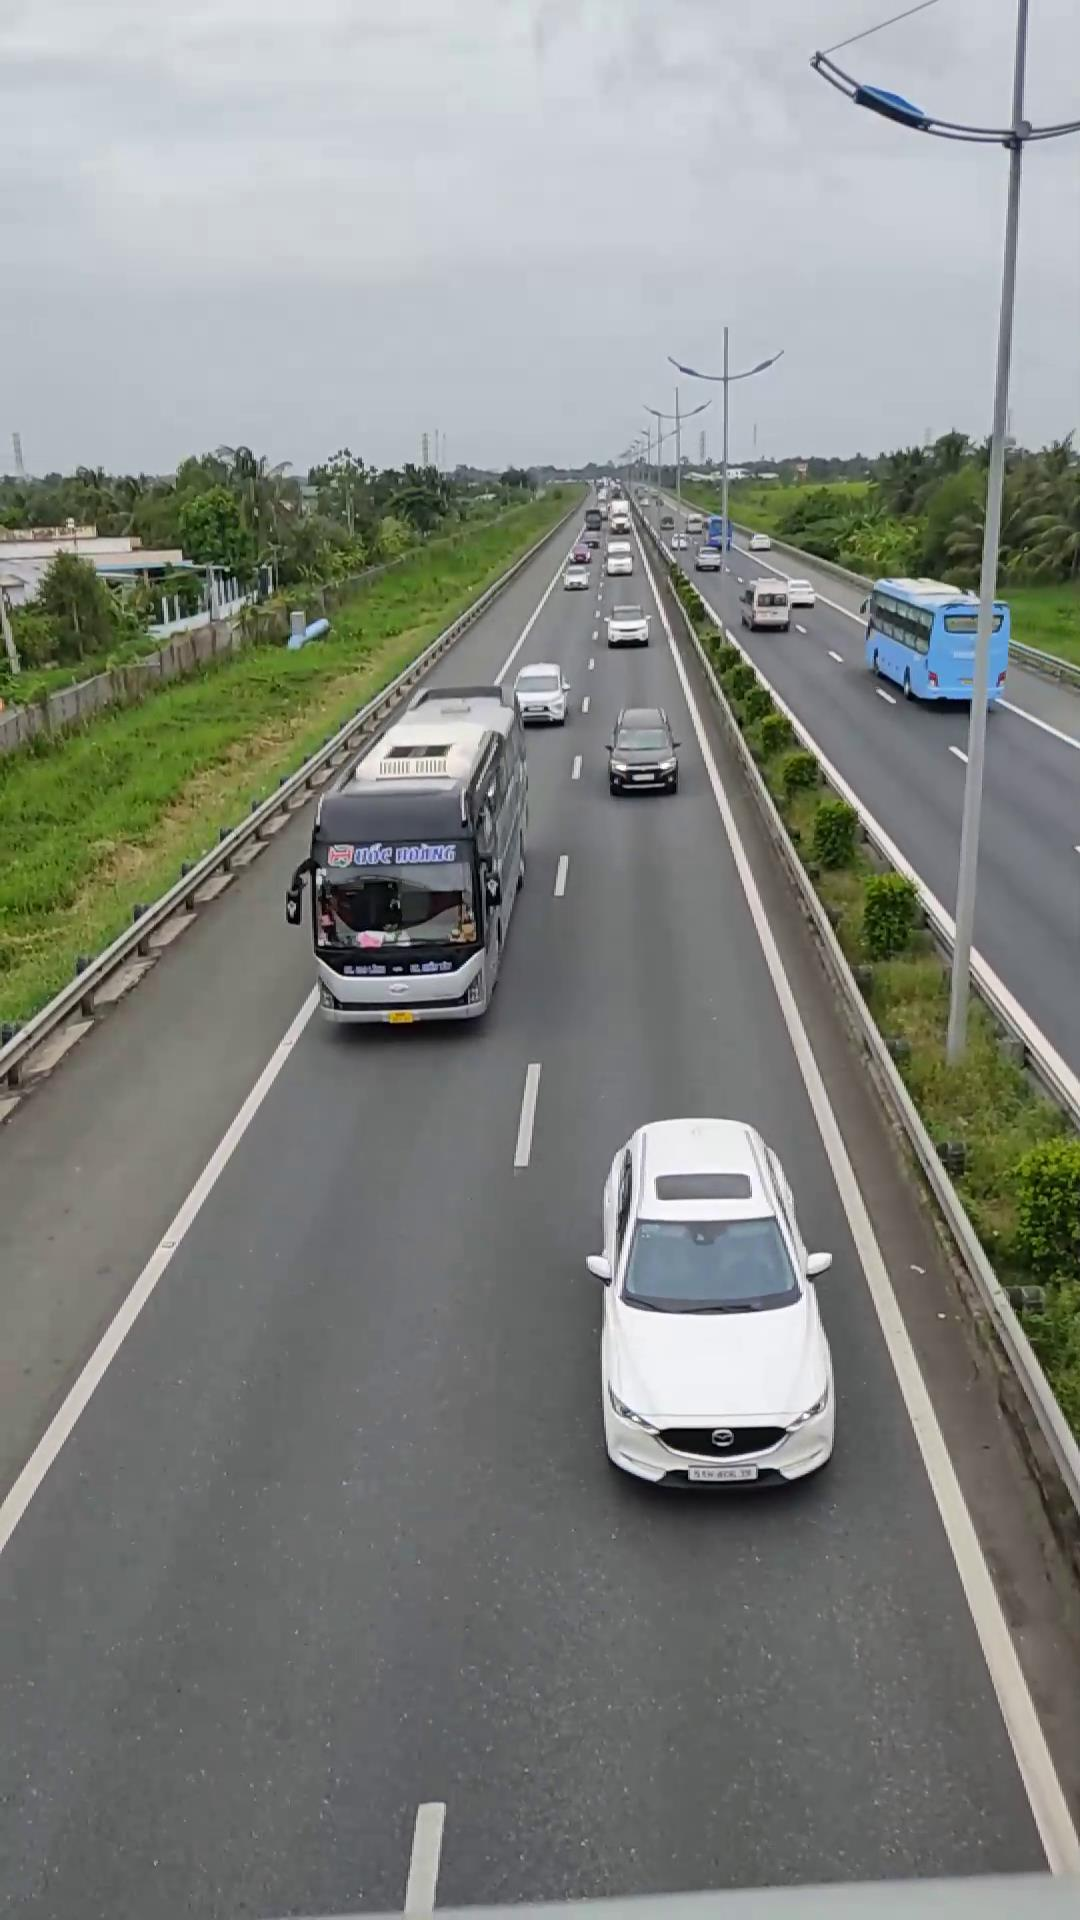bus: (291, 692, 529, 1029)
car: (588, 1114, 841, 1491), (603, 705, 680, 794), (506, 661, 574, 725)
